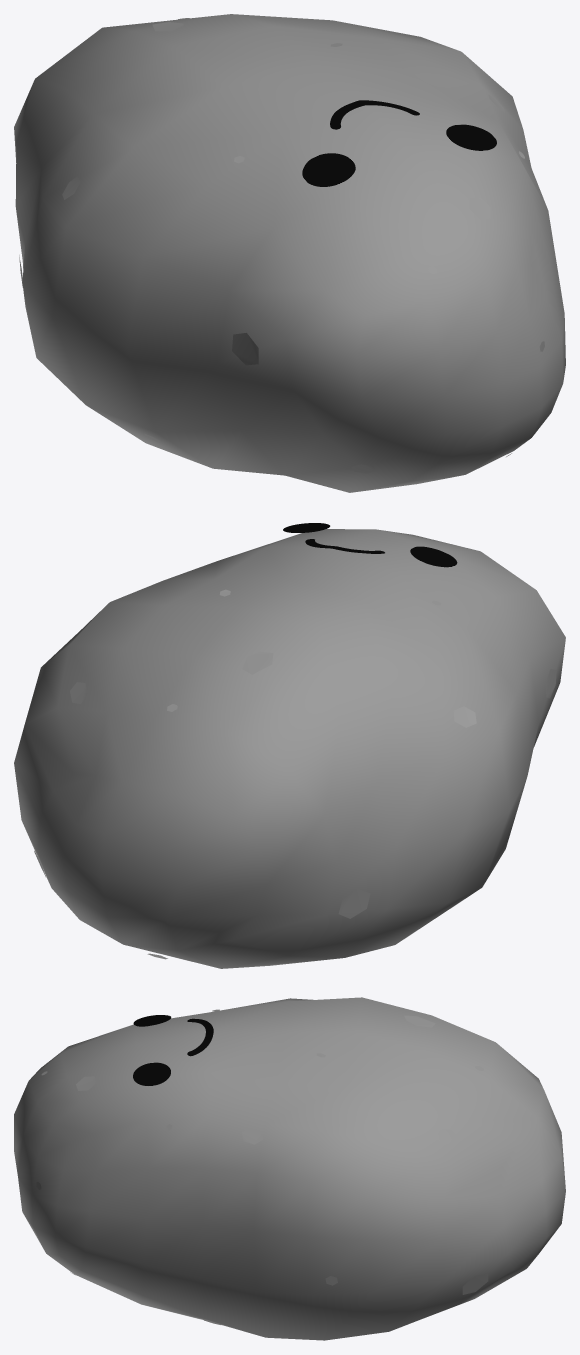
Rendered from potato_big_smile.fbx.
3 renders of one model, top to bottom at view 1: azimuth 30°, elevation 25°; view 2: azimuth 150°, elevation 25°; view 3: azimuth 270°, elevation 25°, orthographic. The views are drawn at different scales.
Visible parts, largest first — view 1: potato_big_smile; view 2: potato_big_smile; view 3: potato_big_smile.
Boxes of the visible parts, left/top/right/bottom form: potato_big_smile: left=14, top=14, right=565, bottom=492; potato_big_smile: left=14, top=523, right=565, bottom=968; potato_big_smile: left=14, top=997, right=565, bottom=1340.
Size of the model in its own units: 77.06 by 102 by 55.02.
